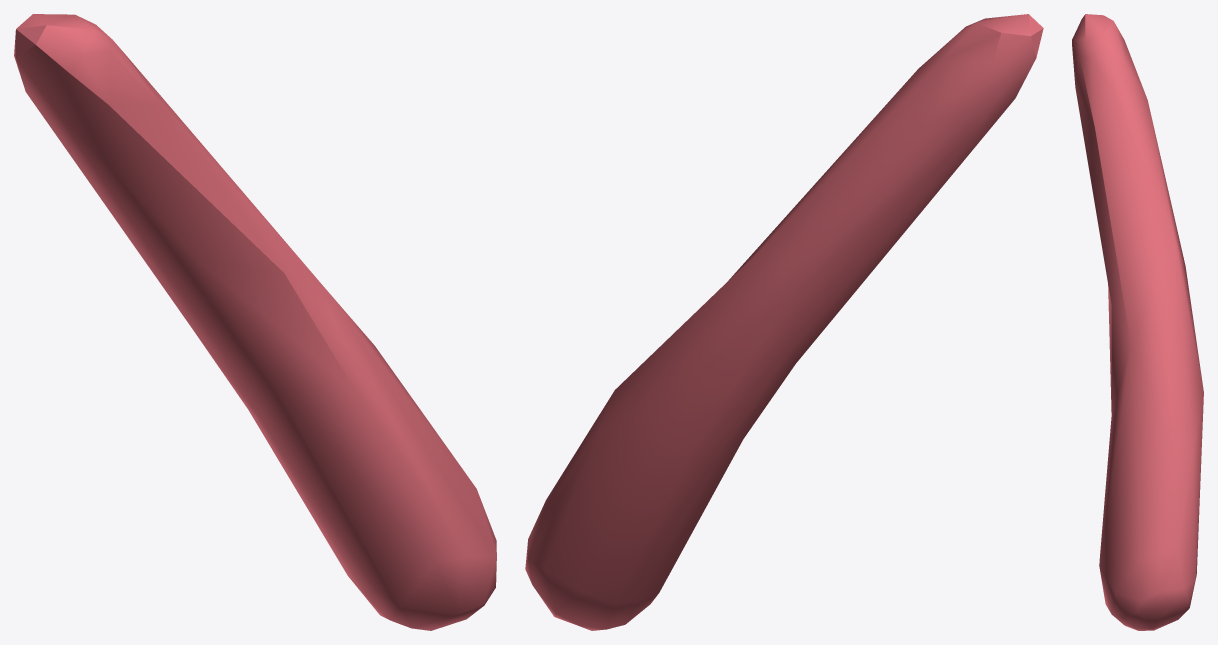
The model's file is fma8666_fj6033.glb.
3 views of the same model, side by side, from view 1: azimuth 30°, elevation 25°; view 2: azimuth 150°, elevation 25°; view 3: azimuth 270°, elevation 25° (orthographic). The views are drawn at different scales.
Visible parts, largest first — view 1: FMA8666_FJ6033; view 2: FMA8666_FJ6033; view 3: FMA8666_FJ6033.
Boxes of the visible parts, left/top/right/bottom form: FMA8666_FJ6033: left=14, top=14, right=496, bottom=630; FMA8666_FJ6033: left=525, top=14, right=1043, bottom=630; FMA8666_FJ6033: left=1072, top=14, right=1203, bottom=630.
Size of the model in its own units: 0.00639 by 0.00879 by 0.0022.
